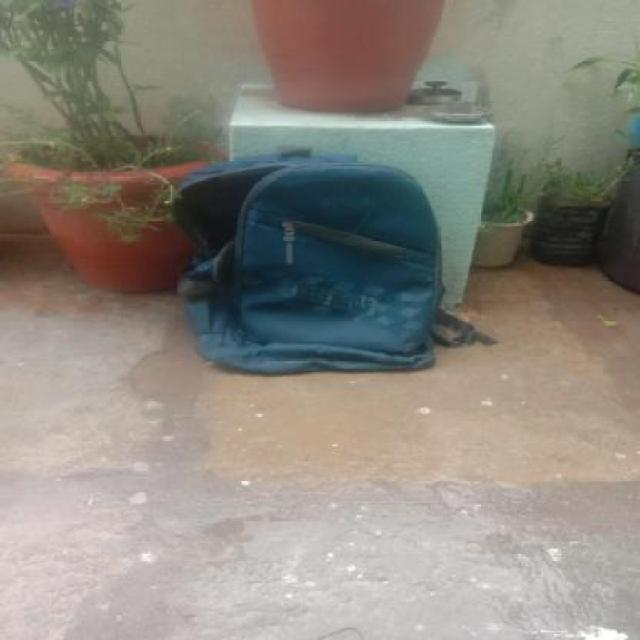backpack: (166, 150, 449, 378)
